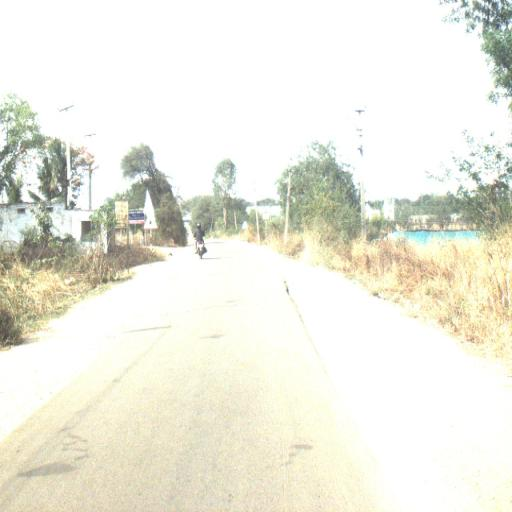street_light_0: (347, 115, 364, 138)
